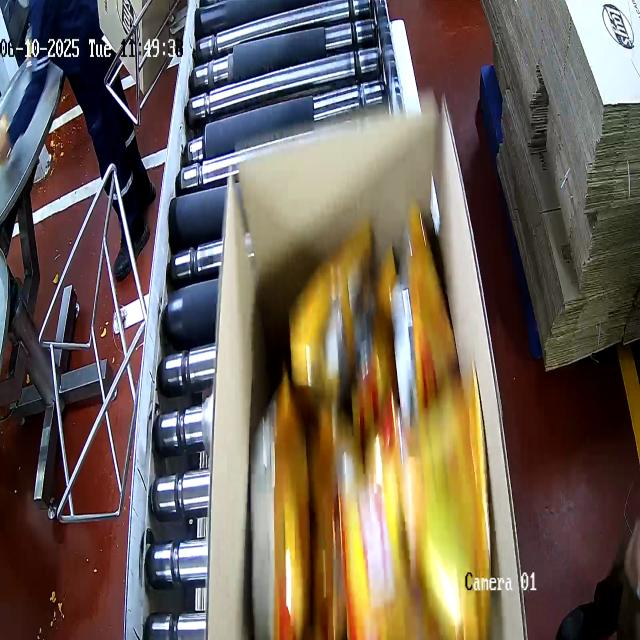FRENCH_CHEESE: (257, 232, 493, 640)
